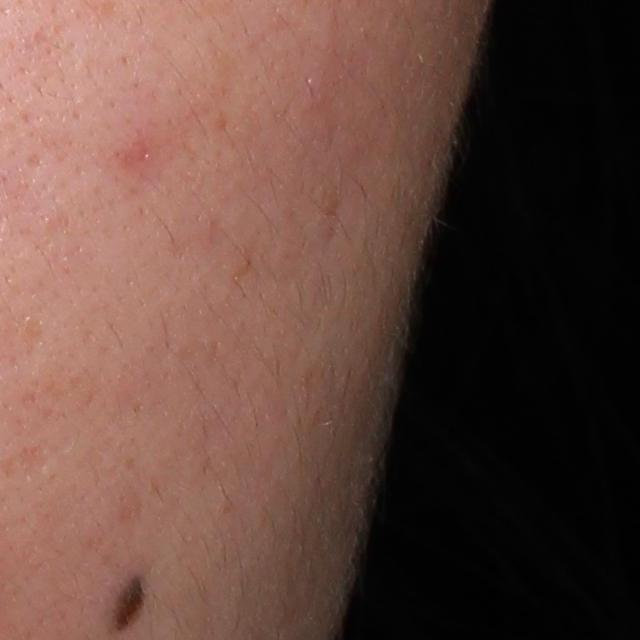nevus: (109, 575, 149, 633)
